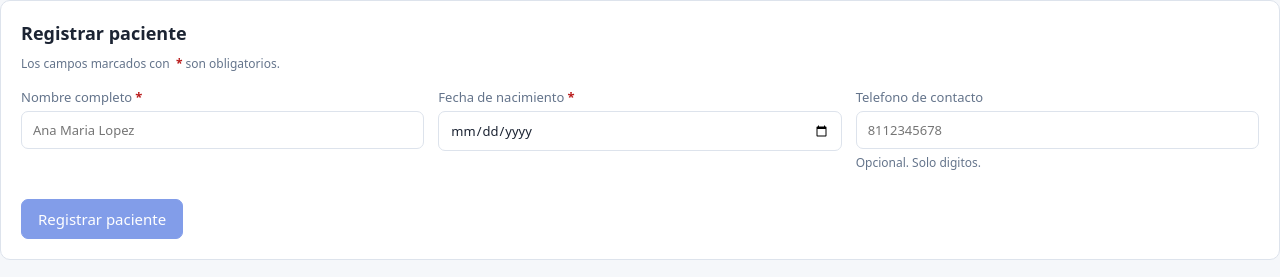
Scenario: PatientForm › rechaza letras en el telefono sin gastar una peticion
Type "8112345678abc" into the field labelled "Telefono de contacto Opcional. Solo digitos." at (1057, 130), box [856,111,1259,149]
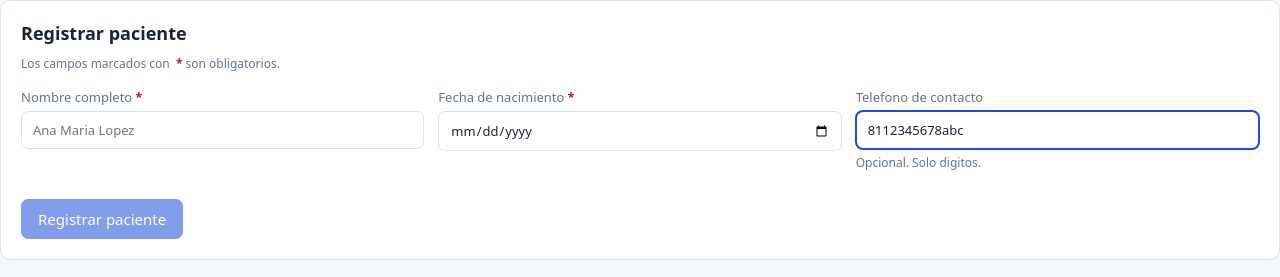
Press Tab
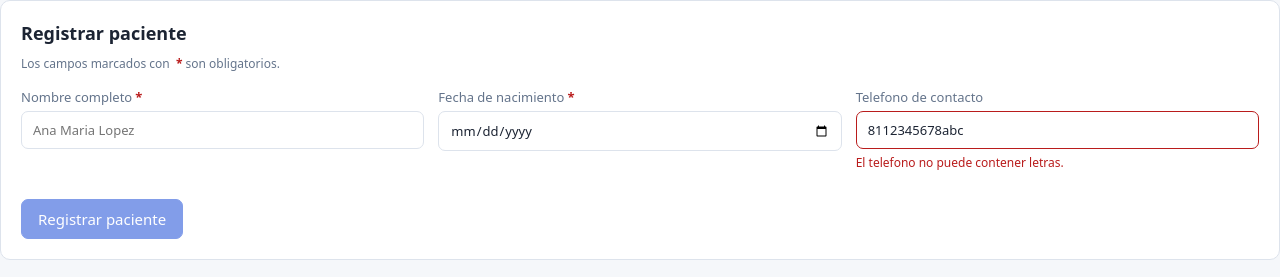
Check: the text "El telefono no puede contener letras." is shown, box [856,154,1064,171]
